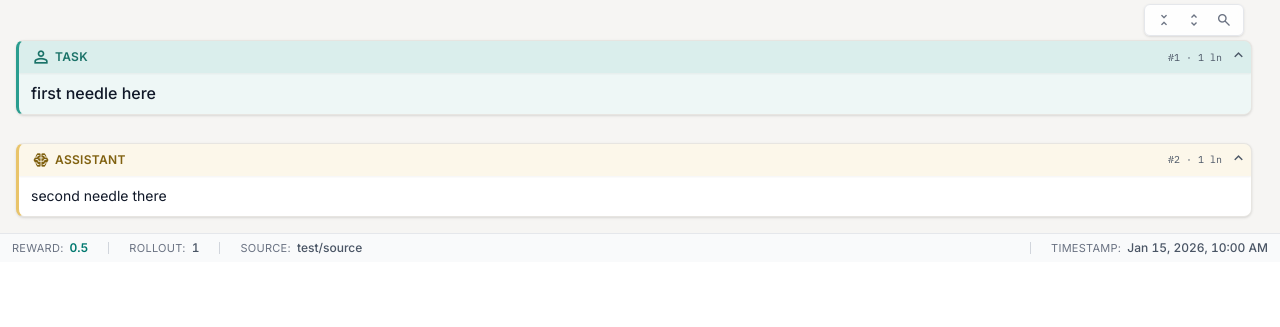
Test: ChatView local search navigation › auto-scrolls to the first exact match mark when a term is typed
The image size is (1280, 327).
Click the button named "Search chat" at [1224, 20], box [1211, 7, 1237, 33]
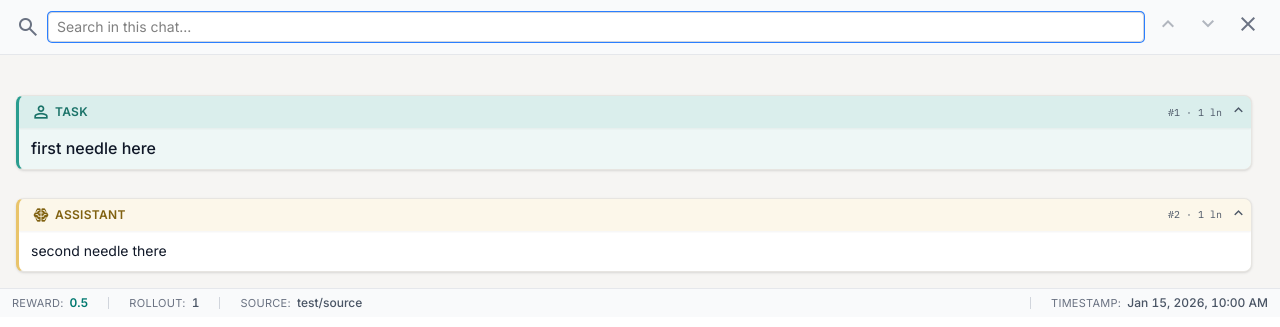
Type "needle" into the field with placeholder "Search in this chat..." at [596, 27], box [48, 12, 1144, 42]
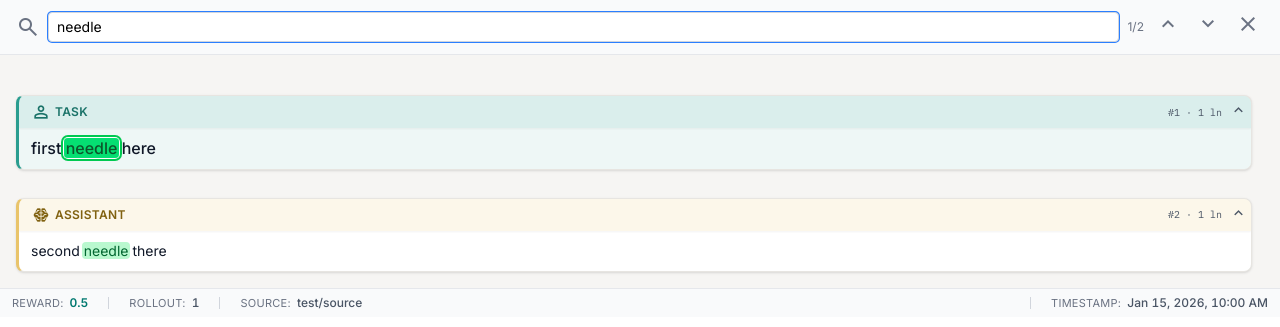
Now the number of elements with class "local-search-mark" is 2, box [64, 138, 120, 158]; [82, 242, 130, 259]
Now the text "1/2" is shown, box [1127, 19, 1144, 35]
